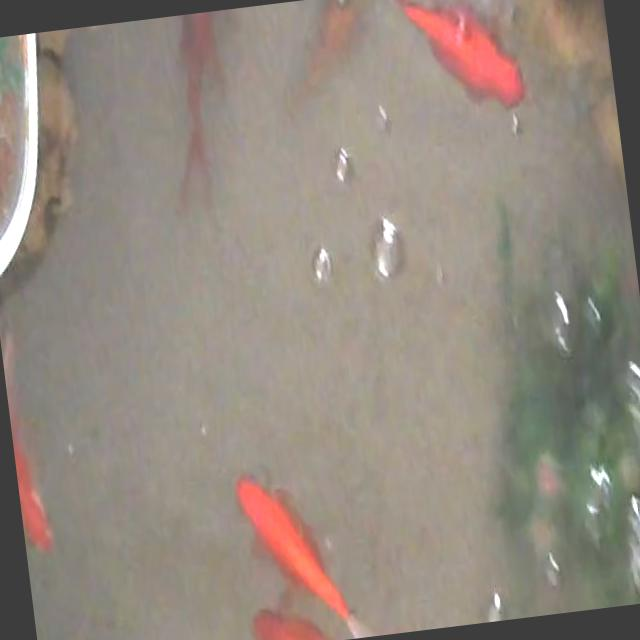fish: (154, 9, 248, 220), (387, 0, 526, 123), (0, 325, 55, 554), (242, 472, 332, 594), (279, 0, 376, 111), (247, 591, 362, 640)
